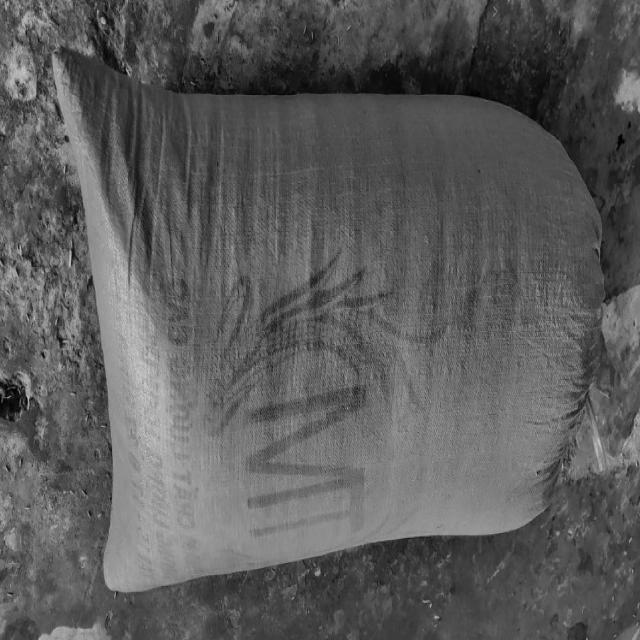gunny_bag: (52, 49, 605, 591)
